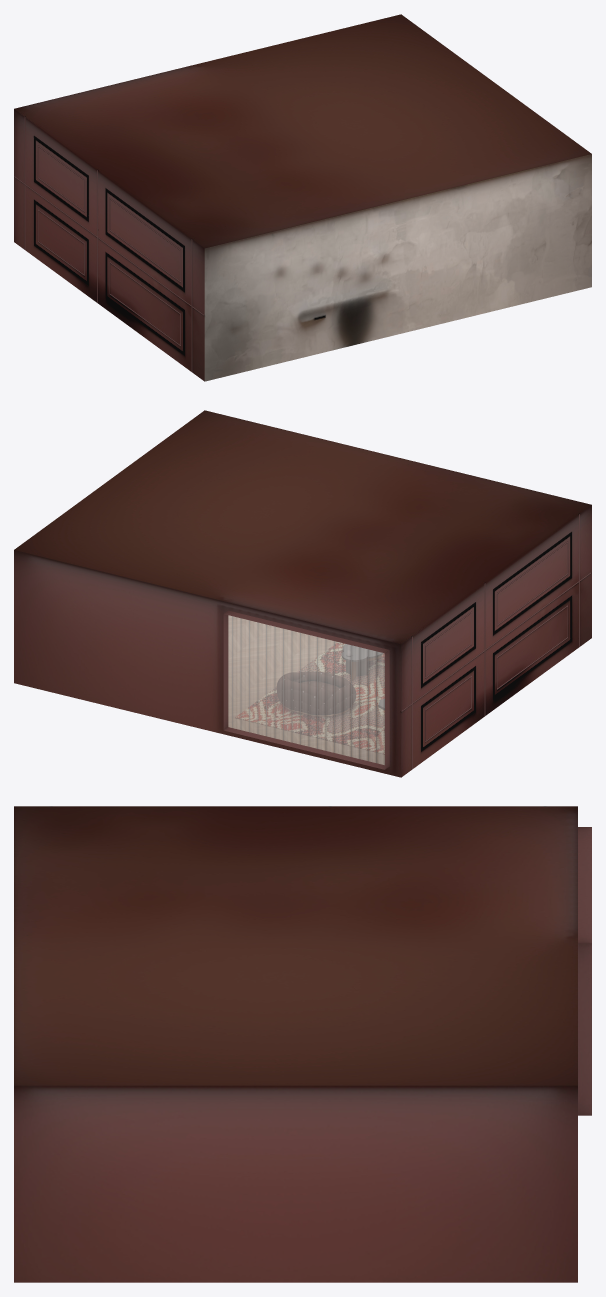
The model's file is vintage_living_room.glb.
3 renders of one model, top to bottom at view 1: azimuth 30°, elevation 25°; view 2: azimuth 150°, elevation 25°; view 3: azimuth 270°, elevation 25°, orthographic. The views are drawn at different scales.
Visible parts, largest first — view 1: house, wall; view 2: house, curtain, floor, carpet, sofa, table; view 3: house.
Boxes of the visible parts, box(x1,y1,x2,y2) form: house: box(14, 14, 591, 381); wall: box(204, 154, 591, 381); house: box(14, 410, 591, 777); curtain: box(228, 615, 384, 765); floor: box(228, 616, 384, 764); carpet: box(235, 642, 384, 754); sofa: box(277, 672, 355, 716); table: box(342, 644, 384, 709); house: box(14, 806, 591, 1282).
Size of the model in its own units: 12.17 by 4.01 by 10.63.
19 materials, 19 textured.
